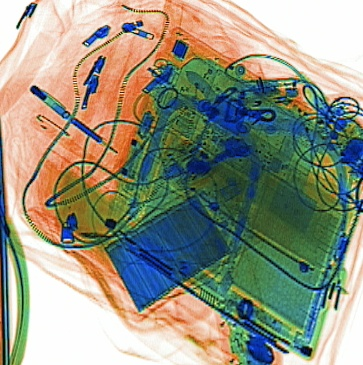powerbank: (100, 193, 234, 313)
